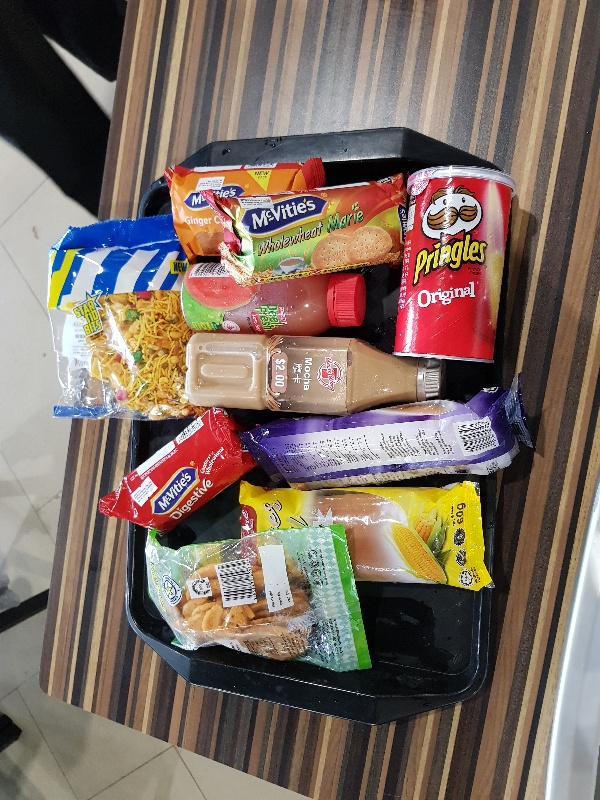Marigold Peel Fresh Pink Guava Juice Drink: (180, 260, 367, 336)
McVitie's Ginger Cookies: (164, 158, 326, 257)
McVitie's Wholewheat Marie: (210, 175, 409, 285)
Mcvitie's Digestive: (98, 405, 257, 534)
Mocha: (183, 330, 441, 414)
Pringles Original: (394, 161, 517, 363)
Star Tidbits 'O' Ring: (143, 522, 373, 677)
Star Tidbits Mixer: (45, 213, 194, 420)
Tinges Roll Chocolate: (243, 379, 534, 487)
Tinges Roll Sweet Corn: (236, 480, 493, 596)
